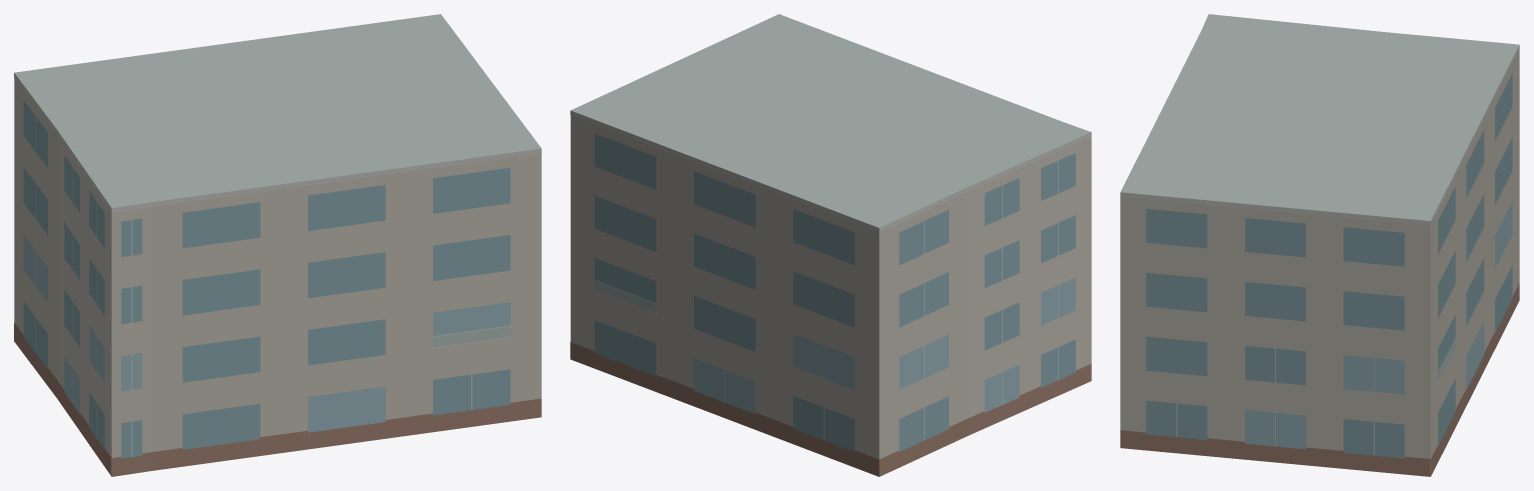
The model's file is survey-upis-32852220.glb.
3 views of the same model, side by side, from view 1: azimuth 30°, elevation 25°; view 2: azimuth 150°, elevation 25°; view 3: azimuth 270°, elevation 25° (orthographic). The views are drawn at different scales.
Visible parts, largest first — view 1: survey-upis-32852220.tmp; view 2: survey-upis-32852220.tmp; view 3: survey-upis-32852220.tmp.
Boxes of the visible parts, x1,y1,x2,y2 form: survey-upis-32852220.tmp: (14,14,541,476); survey-upis-32852220.tmp: (570,14,1091,476); survey-upis-32852220.tmp: (1120,14,1519,476).
Bounding box in the file's own units: 23.22 × 13.37 × 18.92.
